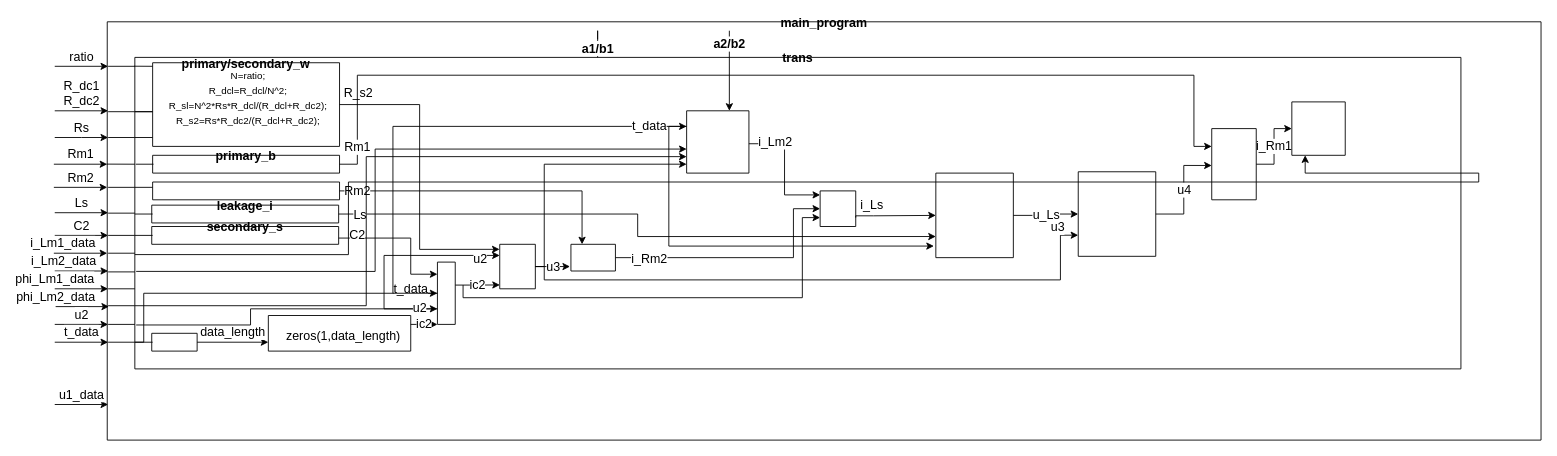
This 1557x456 diagram has some shape labels left out. The box of each missing label's shape, as (x1, y1, x2, y2) in pixels:
length: (151, 332, 197, 351)
Lm2_curve: (686, 110, 749, 173)
secondary_b: (152, 181, 340, 200)
